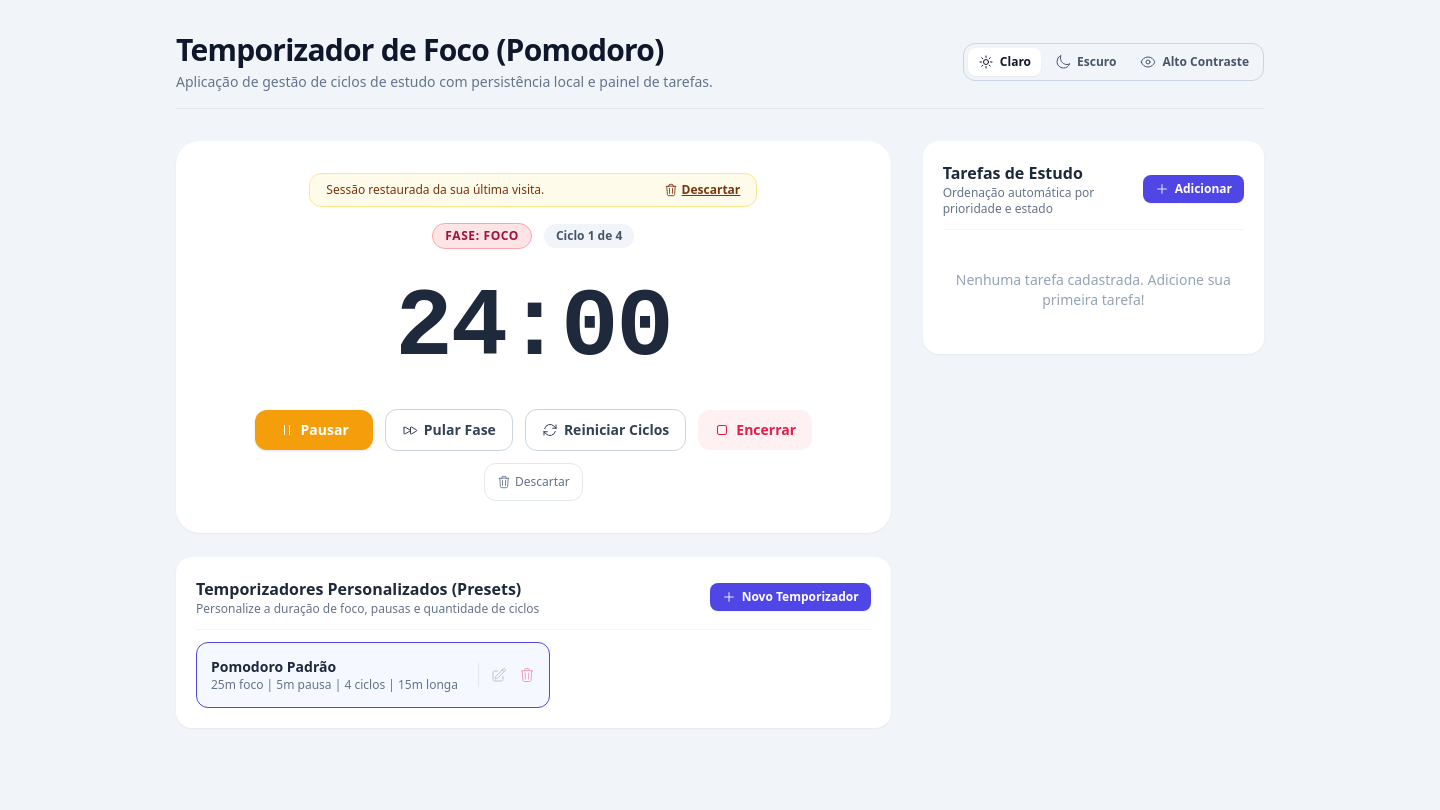
Test: App Integrado (Pomodoro + Presets + Tarefas) › deve restaurar sessão automaticamente do localStorage com aviso de retomada e permitir descarte (RF-12, RF-13, UC10, UC11)
Expected: the text "Sessão restaurada da sua última visita." is shown, [326, 182, 544, 198]
// Descartar sessão retomada
What coordinates should you click on to do the following:
click the button "Descartar" next to "Sessão restaurada da sua última visita."
I would click on:
 (702, 190)
Its box is [664, 182, 740, 198].
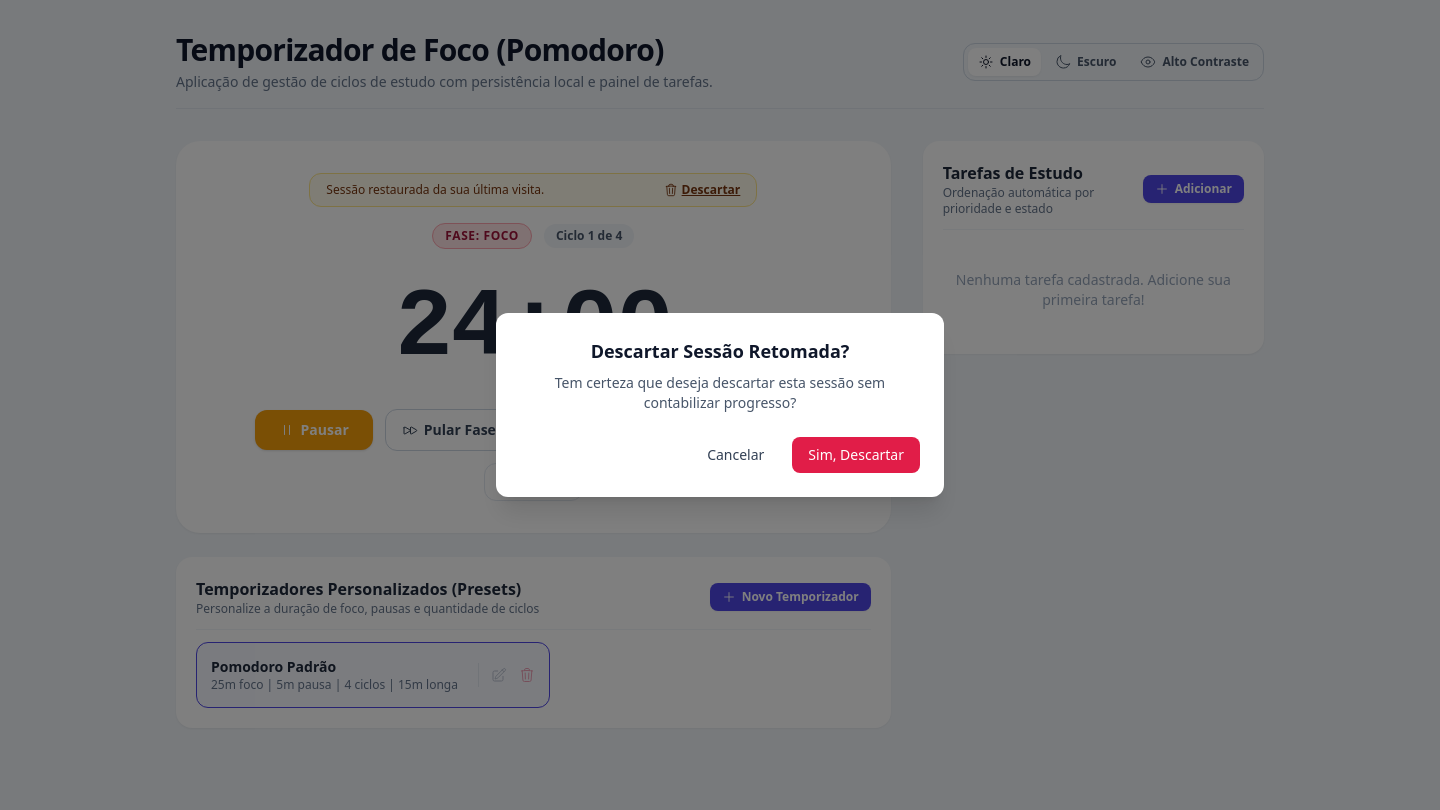
// Confirmar descarte no diálogo
What coordinates should you click on to do the following:
click the button "Sim, Descartar"
I would click on:
 (856, 455)
Its box is [792, 437, 920, 473].
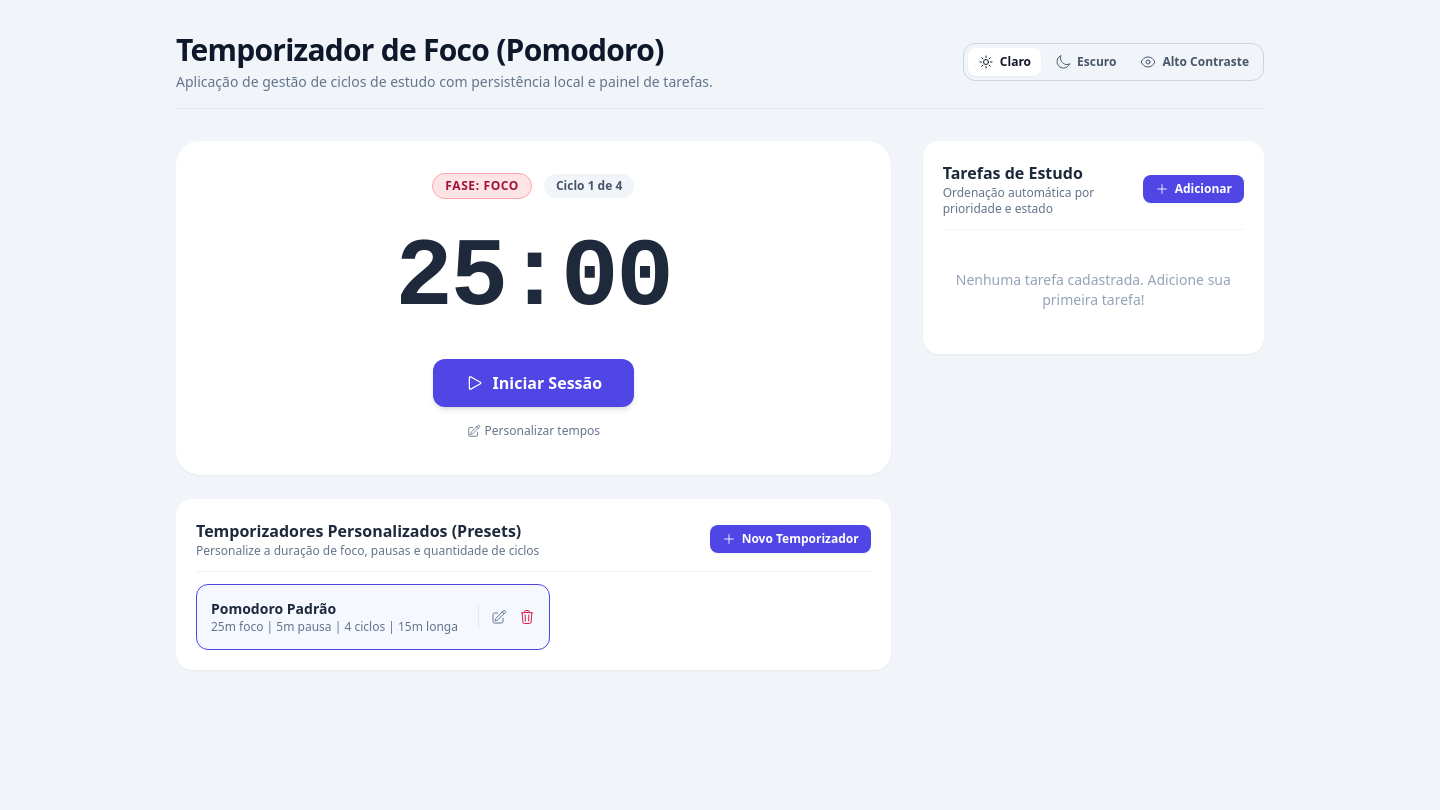
Expected: the button "Iniciar Sessão" is shown, [432, 359, 634, 407]
